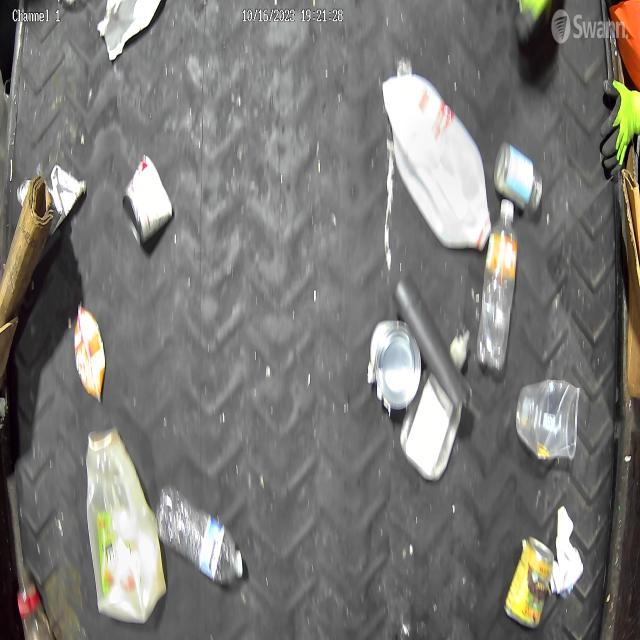can: (502, 531, 555, 631), (121, 154, 174, 251), (371, 318, 424, 411)
milk_jug: (382, 72, 494, 255)
non_white_jug: (85, 424, 168, 625)
plastic_bottle: (154, 482, 244, 586), (476, 197, 519, 375), (17, 563, 53, 640)
